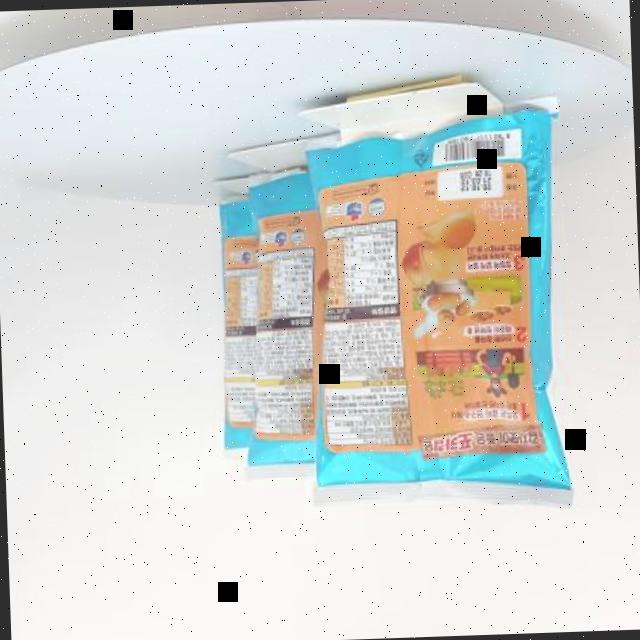snack_bag: (191, 86, 587, 546)
